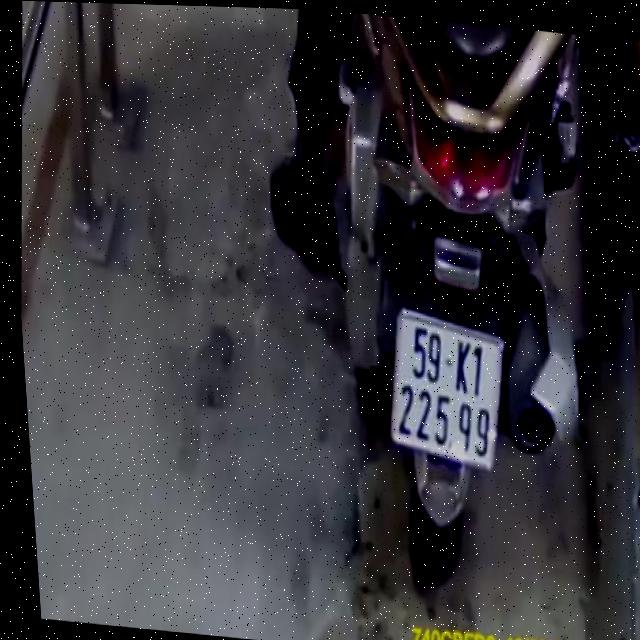motorcycle: (290, 9, 636, 609)
plate: (376, 305, 516, 475)
